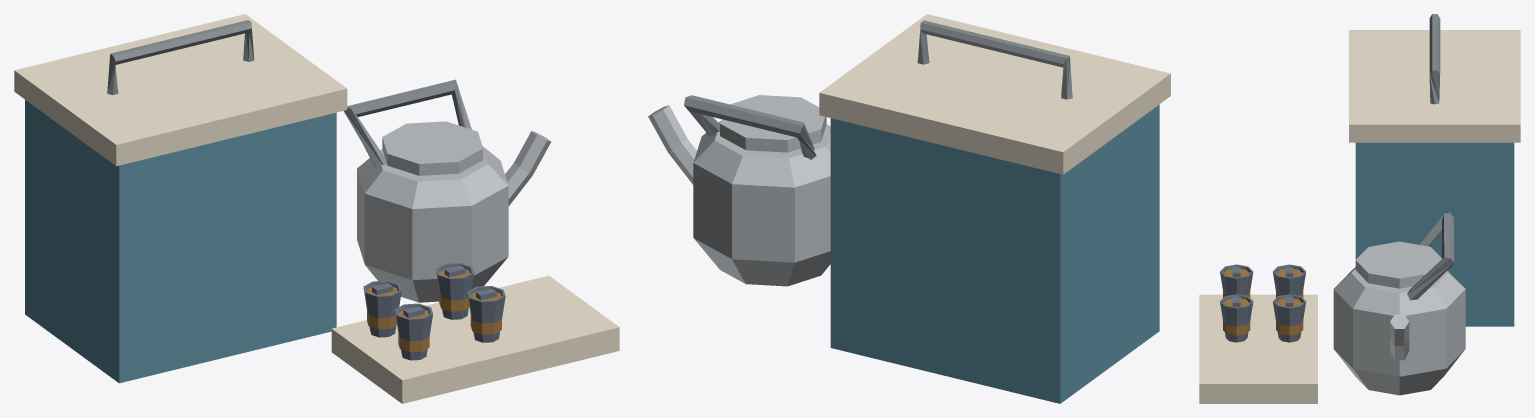
Rendered from TeaServiceSet.glb.
3 views of the same model, side by side, from view 1: azimuth 30°, elevation 25°; view 2: azimuth 150°, elevation 25°; view 3: azimuth 270°, elevation 25° (orthographic). The views are drawn at different scales.
Parts seen in each view (by area): view 1: ST_Ice_Cooler.001, ST_TeaServiceSet_ST_cream.001, ST_TeaServiceSet_ST_steel.001, ST_TeaServiceSet_PBK_Indochine_glass.001, ST_TeaServiceSet_PBK_Indochine_metal.001, ST_TeaServiceSet_ST_broth.001; view 2: ST_Ice_Cooler.001, ST_TeaServiceSet_ST_cream.001, ST_TeaServiceSet_ST_steel.001, ST_TeaServiceSet_PBK_Indochine_metal.001; view 3: ST_TeaServiceSet_ST_cream.001, ST_Ice_Cooler.001, ST_TeaServiceSet_ST_steel.001, ST_TeaServiceSet_PBK_Indochine_glass.001, ST_TeaServiceSet_PBK_Indochine_metal.001, ST_TeaServiceSet_ST_broth.001.
Boxes of the visible parts, bbox=[...] form: ST_Ice_Cooler.001: bbox=[25, 100, 336, 383]; ST_TeaServiceSet_ST_cream.001: bbox=[14, 14, 619, 403]; ST_TeaServiceSet_ST_steel.001: bbox=[357, 121, 551, 302]; ST_TeaServiceSet_PBK_Indochine_glass.001: bbox=[363, 263, 505, 360]; ST_TeaServiceSet_PBK_Indochine_metal.001: bbox=[107, 20, 471, 167]; ST_TeaServiceSet_ST_broth.001: bbox=[367, 267, 501, 352]; ST_Ice_Cooler.001: bbox=[830, 104, 1159, 403]; ST_TeaServiceSet_ST_cream.001: bbox=[819, 14, 1170, 174]; ST_TeaServiceSet_ST_steel.001: bbox=[648, 95, 830, 286]; ST_TeaServiceSet_PBK_Indochine_metal.001: bbox=[684, 20, 1072, 159]; ST_TeaServiceSet_ST_cream.001: bbox=[1199, 30, 1520, 403]; ST_Ice_Cooler.001: bbox=[1355, 142, 1514, 326]; ST_TeaServiceSet_ST_steel.001: bbox=[1333, 241, 1465, 395]; ST_TeaServiceSet_PBK_Indochine_glass.001: bbox=[1220, 264, 1306, 342]; ST_TeaServiceSet_PBK_Indochine_metal.001: bbox=[1407, 14, 1454, 300]; ST_TeaServiceSet_ST_broth.001: bbox=[1223, 269, 1303, 335].
Bounding box in the file's own units: 1.02 × 0.6001 × 0.73.
